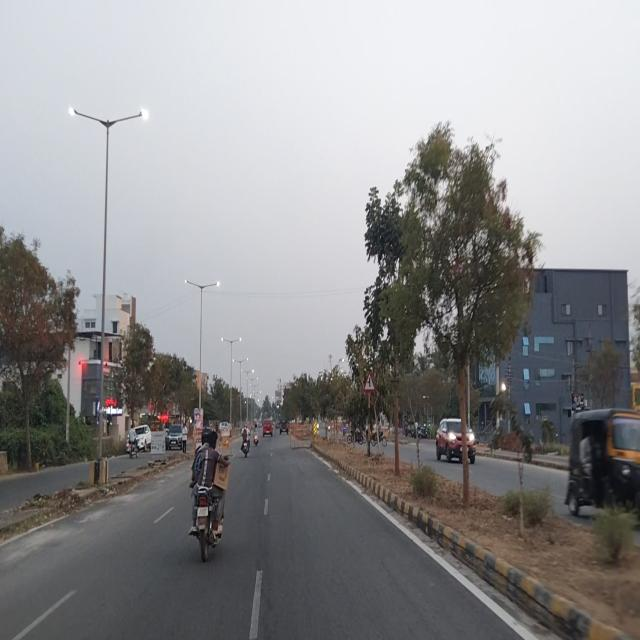bien_cam: (362, 367, 377, 394)
